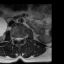CCS_normal: (18, 34, 19, 44)
LFS_normal: (21, 34, 24, 42)
LLS_normal: (19, 34, 21, 42)
RFS_normal: (13, 34, 15, 42)
RLS_normal: (15, 34, 18, 42)
